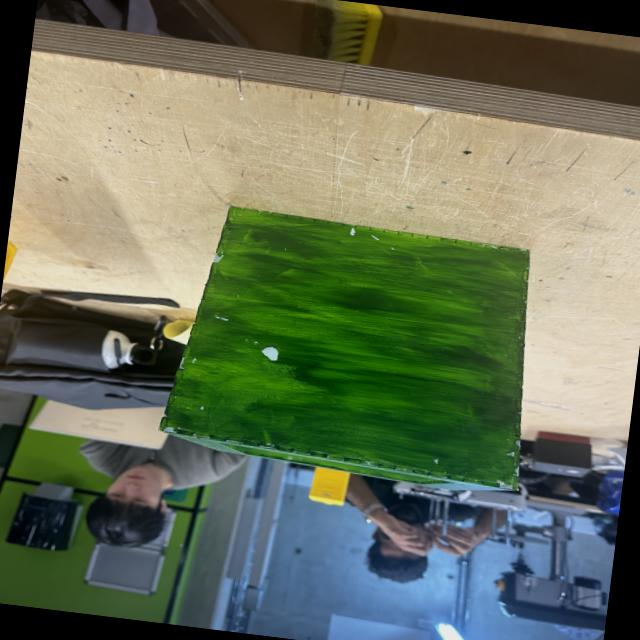green_bin: (156, 198, 549, 498)
